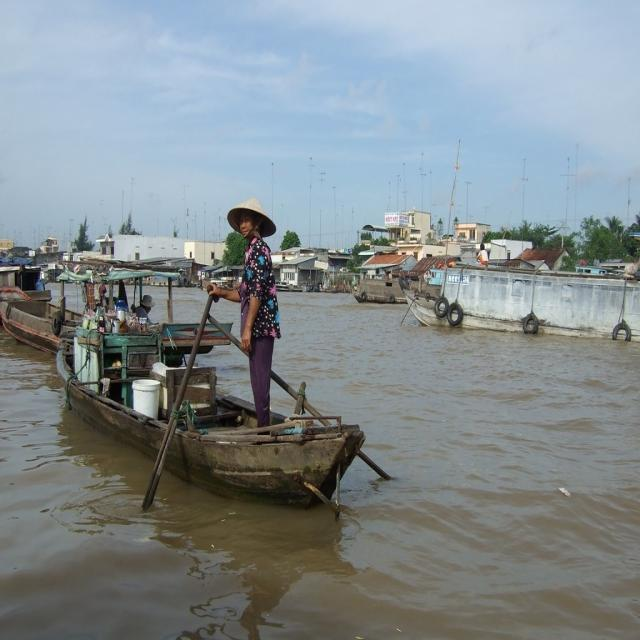boat: (51, 328, 370, 498), (403, 267, 640, 344), (351, 273, 408, 305)
